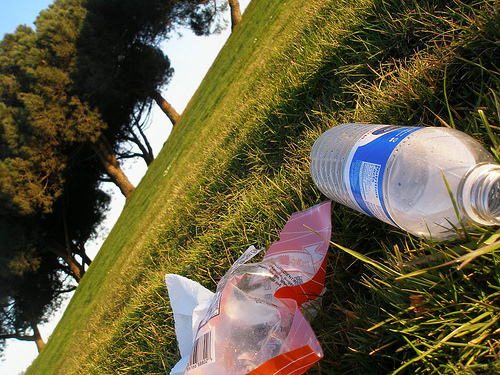litter: (162, 201, 328, 363), (307, 122, 500, 238)
